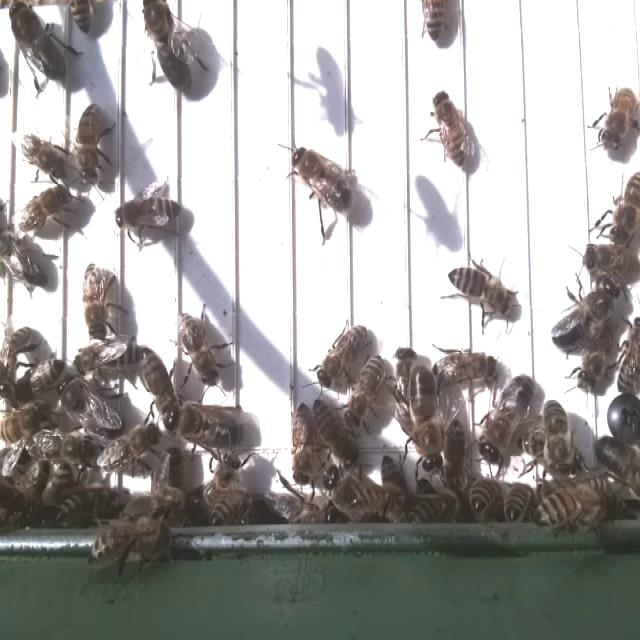Drone: (479, 372, 539, 467), (286, 141, 358, 220), (549, 276, 621, 355), (162, 401, 246, 452), (409, 366, 446, 475)
Worker: (445, 260, 513, 316), (315, 323, 367, 390), (178, 307, 221, 387), (98, 423, 160, 476), (309, 398, 355, 468), (429, 91, 469, 168), (347, 351, 386, 429), (598, 85, 640, 156), (72, 339, 143, 379), (12, 187, 72, 234), (81, 259, 114, 344), (112, 195, 182, 235), (140, 344, 177, 415), (610, 165, 640, 246), (580, 243, 640, 280), (78, 104, 104, 186)
